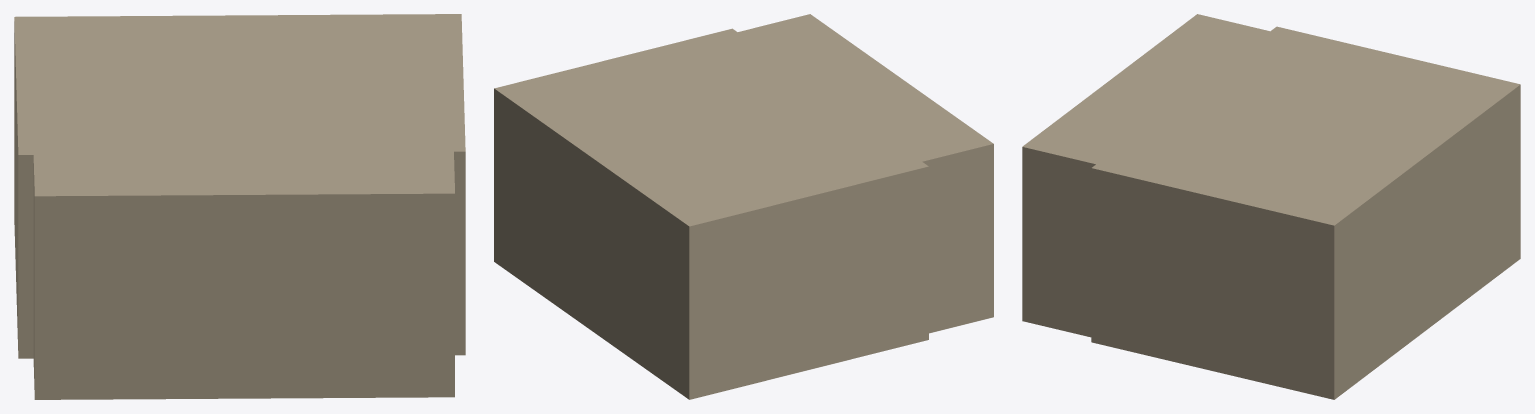
File: grand-central.glb
The picture shows the model from 3 angles, left to right: view 1: azimuth 30°, elevation 25°; view 2: azimuth 150°, elevation 25°; view 3: azimuth 270°, elevation 25°; orthographic projection. The views are drawn at different scales.
Parts seen in each view (by area): view 1: Grand Central Terminal; view 2: Grand Central Terminal; view 3: Grand Central Terminal.
Boxes of the visible parts, <box> form: Grand Central Terminal: <box>14,14,465,399</box>; Grand Central Terminal: <box>494,14,993,399</box>; Grand Central Terminal: <box>1022,14,1520,399</box>.
Bounding box in the file's own units: 119 × 45.8 × 119.
